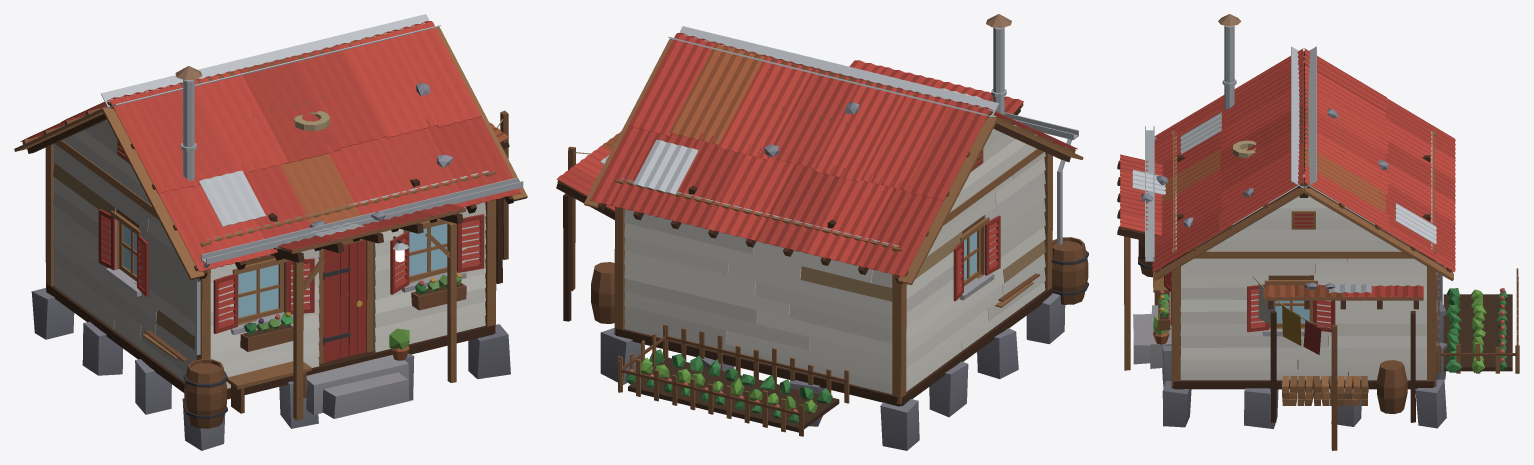
3 views of the same model, side by side, from view 1: azimuth 30°, elevation 25°; view 2: azimuth 150°, elevation 25°; view 3: azimuth 270°, elevation 25° (orthographic). The views are drawn at different scales.
Visible parts, largest first — view 1: H20_ROOF, H20_WALL_S, H20_WALL_W, H20_BASE, H20_DOOR_main, H20_WALL_E; view 2: H20_ROOF, H20_WALL_N, H20_WALL_W, H20_BASE, H20_WALL_S, H20_WALL_E; view 3: H20_ROOF, H20_WALL_E, H20_BASE, H20_WALL_S, H20_WALL_N.
Part boxes in pixels (x1,y1,x2,y2): H20_ROOF: (14,14,527,280); H20_WALL_S: (183,170,523,428); H20_WALL_W: (46,96,201,381); H20_BASE: (31,283,510,450); H20_DOOR_main: (323,240,366,362); H20_WALL_E: (485,110,509,331); H20_ROOF: (584,14,1083,284); H20_WALL_N: (614,178,902,436); H20_WALL_W: (901,115,1052,404); H20_BASE: (600,288,1065,450); H20_WALL_S: (849,60,1088,304); H20_WALL_E: (556,131,624,333); H20_ROOF: (1152,14,1455,280); H20_WALL_E: (1172,171,1435,450); H20_BASE: (1133,264,1447,428); H20_WALL_S: (1117,126,1180,381); H20_WALL_N: (1427,130,1519,386).
Size of the model in its own units: 6.87 by 5.41 by 6.63.
